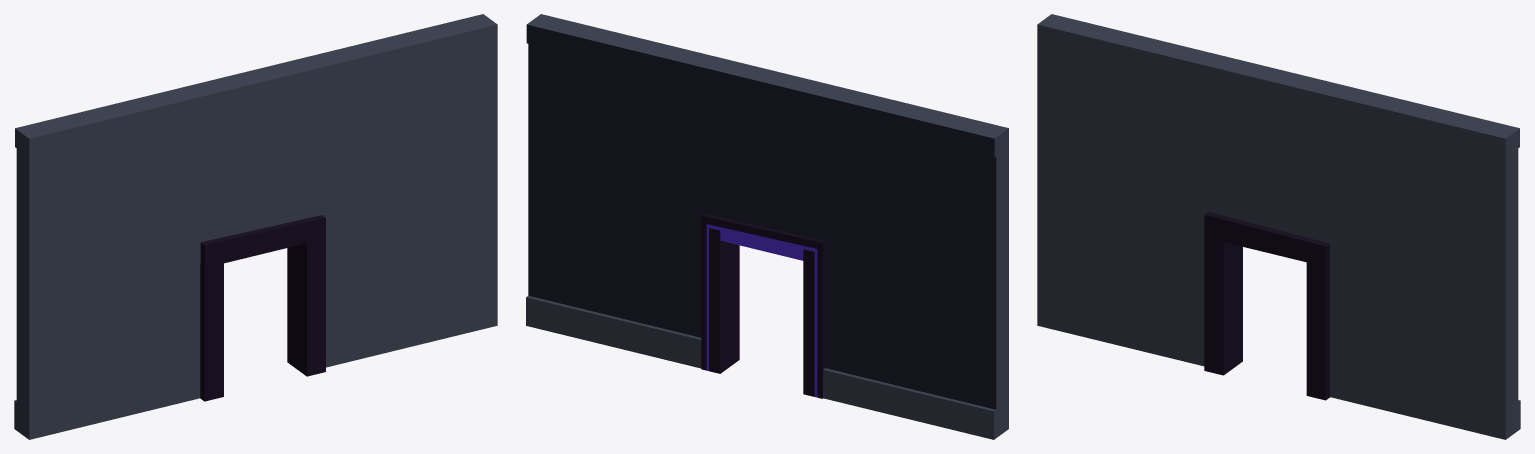
The model's file is Fader_DoorWall.fbx.
3 views of the same model, side by side, from view 1: azimuth 30°, elevation 25°; view 2: azimuth 150°, elevation 25°; view 3: azimuth 330°, elevation 25° (orthographic).
Parts seen in each view (by area): view 1: Riven's Room.008, CubeHome.000; view 2: Riven's Room.008, CubeHome.000; view 3: Riven's Room.008, CubeHome.000.
Boxes of the visible parts, x1=… form: Riven's Room.008: x1=14, y1=14, x2=497, y2=439; CubeHome.000: x1=200, y1=215, x2=325, y2=401; Riven's Room.008: x1=526, y1=14, x2=1008, y2=439; CubeHome.000: x1=701, y1=213, x2=825, y2=398; Riven's Room.008: x1=1037, y1=14, x2=1520, y2=439; CubeHome.000: x1=1204, y1=211, x2=1329, y2=400.
Size of the model in its own units: 490 by 301 by 35.25.
